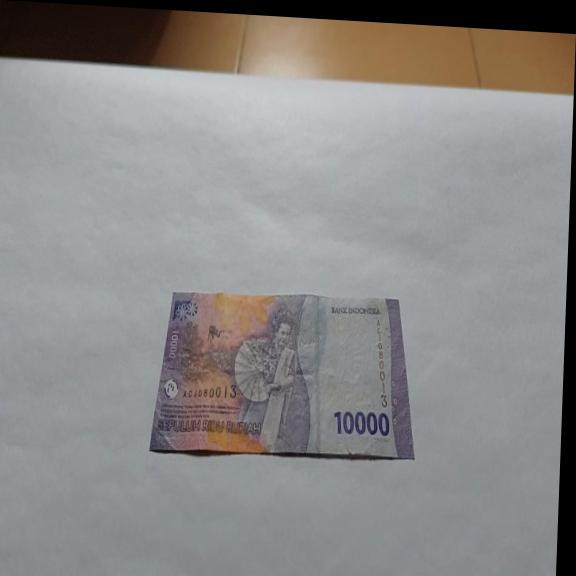Kertas: (148, 282, 420, 469), (332, 406, 391, 439)
